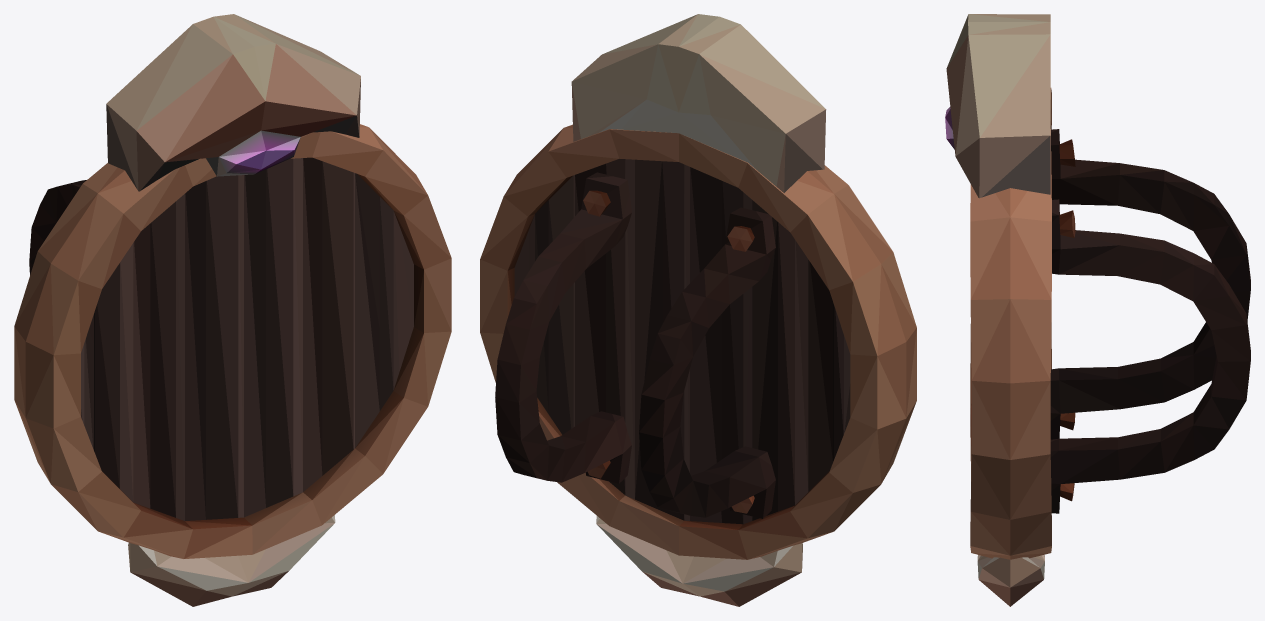
The model's file is weapon_shield_bronze_1.fbx.
3 renders of one model, left to right at view 1: azimuth 30°, elevation 25°; view 2: azimuth 150°, elevation 25°; view 3: azimuth 270°, elevation 25°, orthographic.
Visible parts, largest first — view 1: weapon_shield_bronze_1; view 2: weapon_shield_bronze_1; view 3: weapon_shield_bronze_1.
Boxes of the visible parts, x1,y1,x2,y2 form: weapon_shield_bronze_1: [14, 14, 451, 606]; weapon_shield_bronze_1: [480, 14, 916, 606]; weapon_shield_bronze_1: [945, 14, 1250, 606].
Size of the model in its own units: 0.6823 by 0.8882 by 0.4345.
